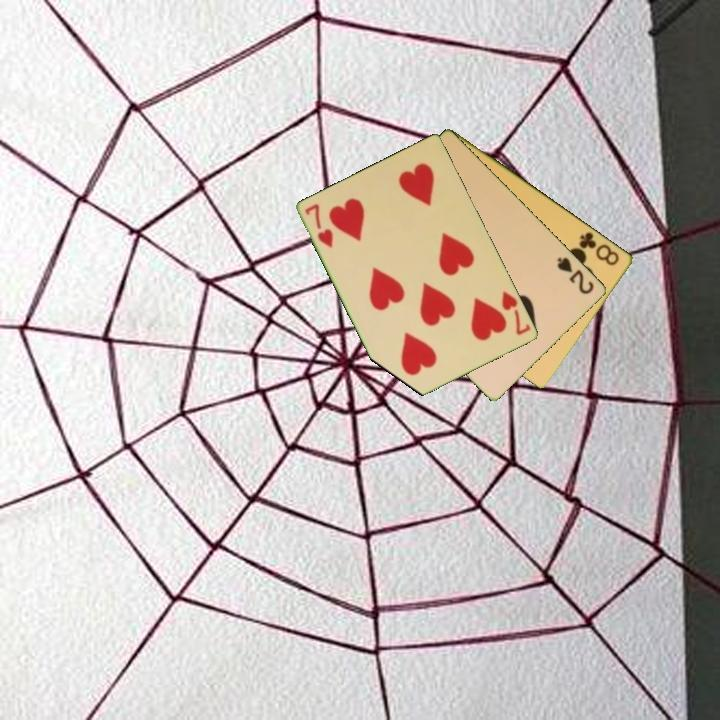2s: (554, 253, 597, 297)
7h: (498, 287, 534, 338), (302, 200, 336, 251)
8c: (576, 228, 622, 269)
